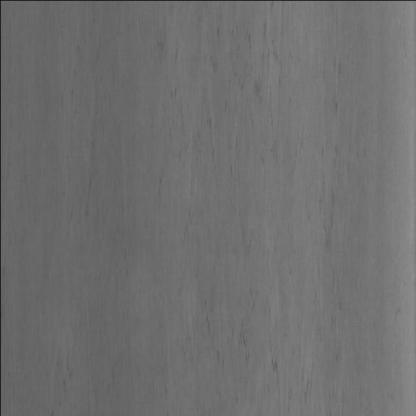silk_spot: (180, 32, 324, 416)
